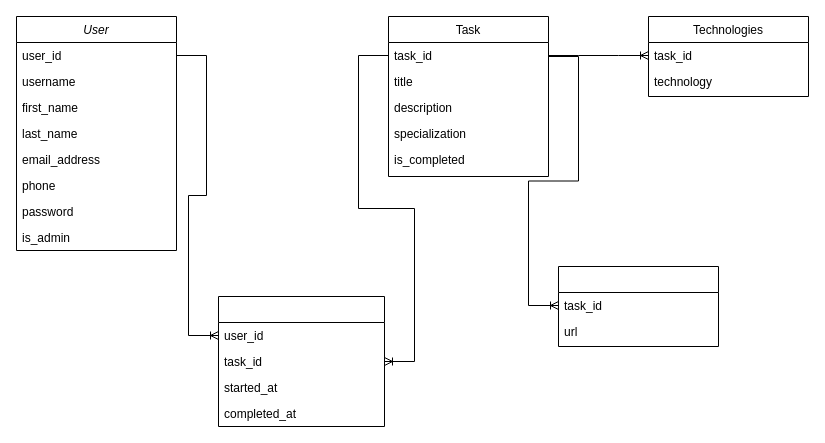
The diagram is 825 pixels wide and 443 high, and some of its shapes have lost their labels. Each missing label, with the box of its shape:
Attachments: (558, 266, 718, 346)
Task List: (218, 296, 384, 426)
